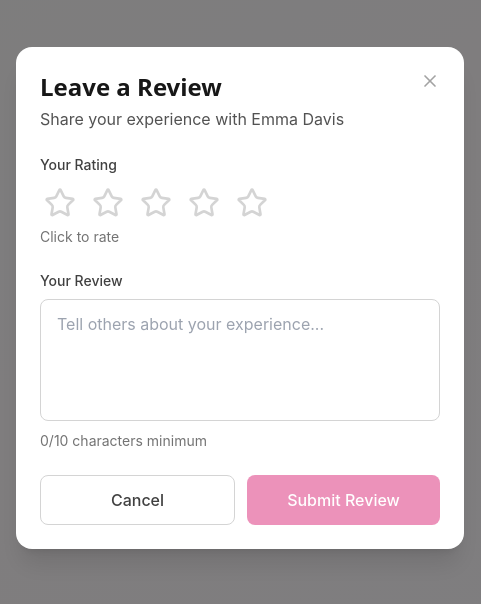
Test: ReviewModal › should show error when comment is too short
Click the 6th button at (252, 203), box [232, 183, 272, 223]
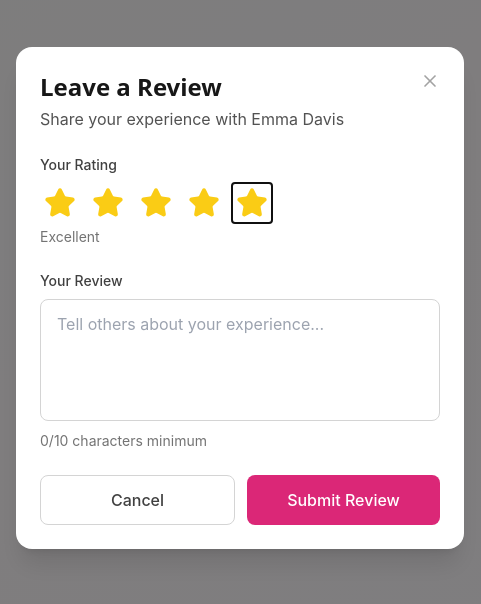
Enter short comment
Type "Good" into the text box with placeholder "Tell others about your experience..." at (240, 360), box [40, 299, 440, 421]
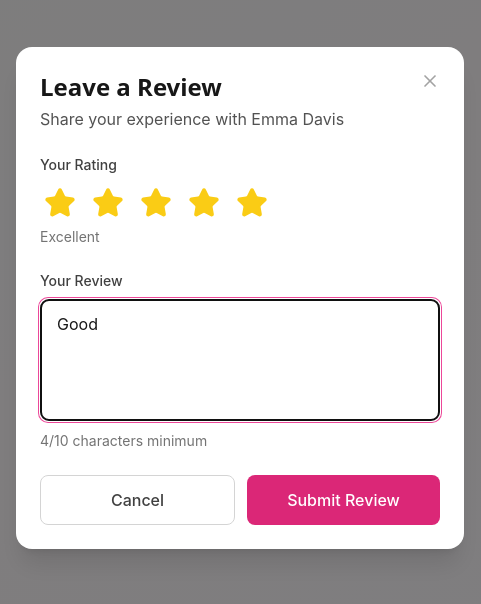
Click the button "Submit Review" at (344, 500), box [247, 475, 440, 525]
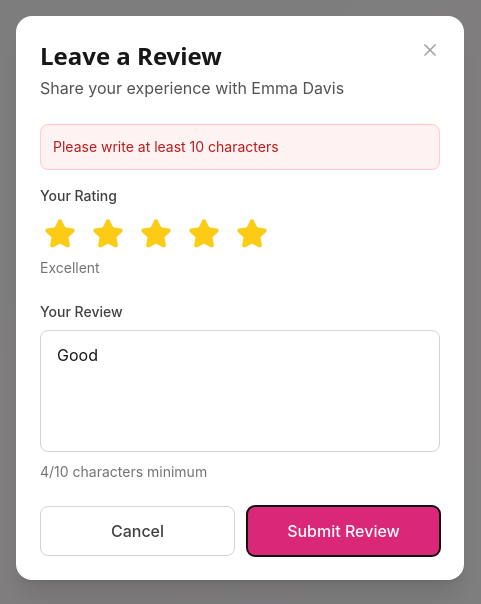
Check: the text "Please write at least 10 characters" is shown, box [40, 124, 440, 170]
